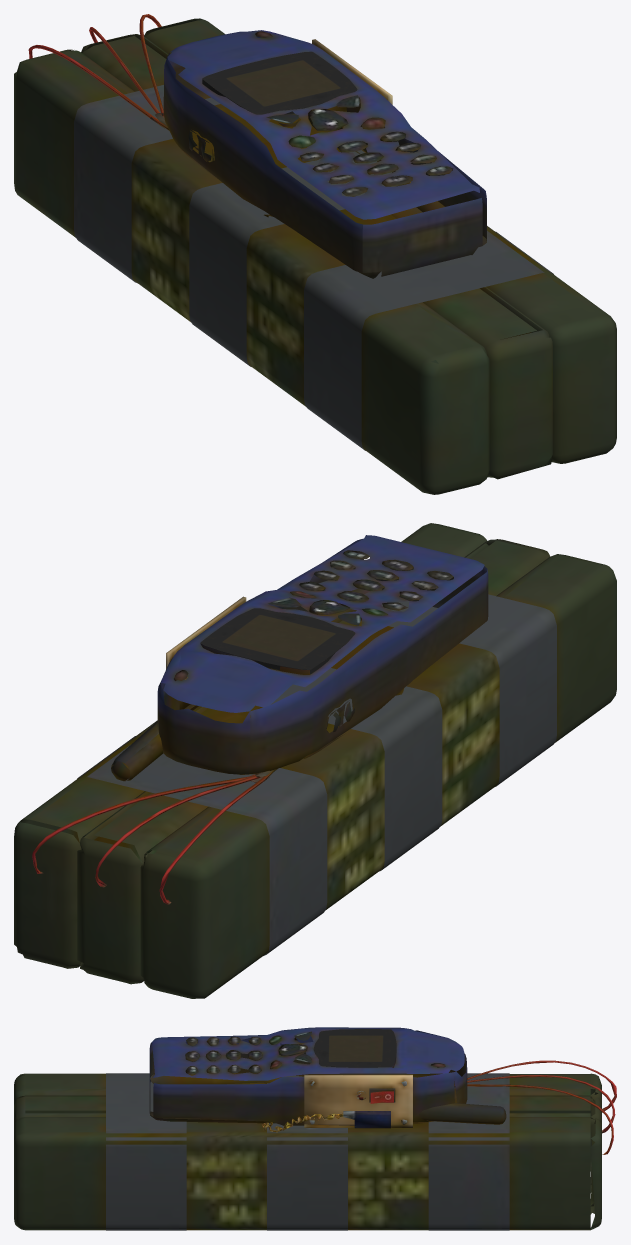
The picture shows the model from 3 angles, top to bottom: view 1: azimuth 30°, elevation 25°; view 2: azimuth 150°, elevation 25°; view 3: azimuth 270°, elevation 25°; orthographic projection. The views are drawn at different scales.
Parts seen in each view (by area): view 1: merged; view 2: merged; view 3: merged.
Part boxes in pixels (left/top/right/bottom): merged: left=14, top=14, right=616, bottom=494; merged: left=14, top=523, right=616, bottom=998; merged: left=14, top=1027, right=616, bottom=1230.
Bounding box in the file's own units: 1.2 × 1.28 × 4.56.
Materials: 2 (2 with a texture image).
